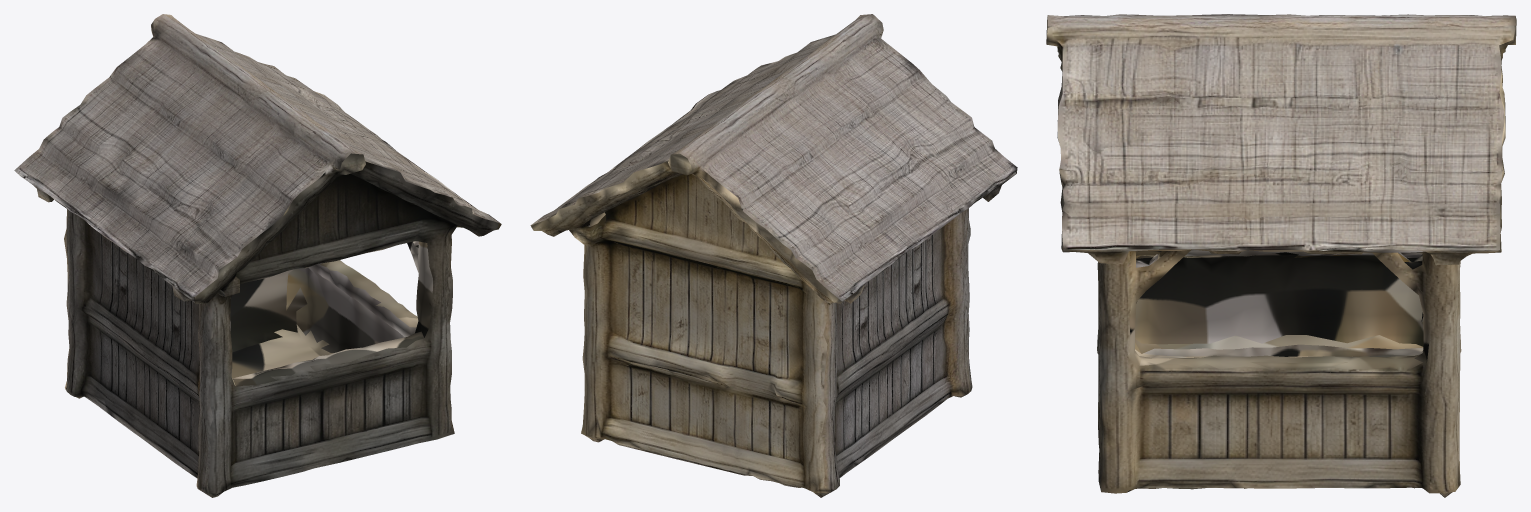
File: shed.glb
The picture shows the model from 3 angles, left to right: view 1: azimuth 30°, elevation 25°; view 2: azimuth 150°, elevation 25°; view 3: azimuth 270°, elevation 25°; orthographic projection. The views are drawn at different scales.
Visible parts, largest first — view 1: WoodenShelter; view 2: WoodenShelter; view 3: WoodenShelter.
Part boxes in pixels (x1,y1,x2,y2): WoodenShelter: (14, 14, 501, 497); WoodenShelter: (530, 14, 1017, 497); WoodenShelter: (1046, 14, 1516, 497).
Size of the model in its own units: 1.45 by 1.5 by 1.54.
Materials: 1 (1 with a texture image).
